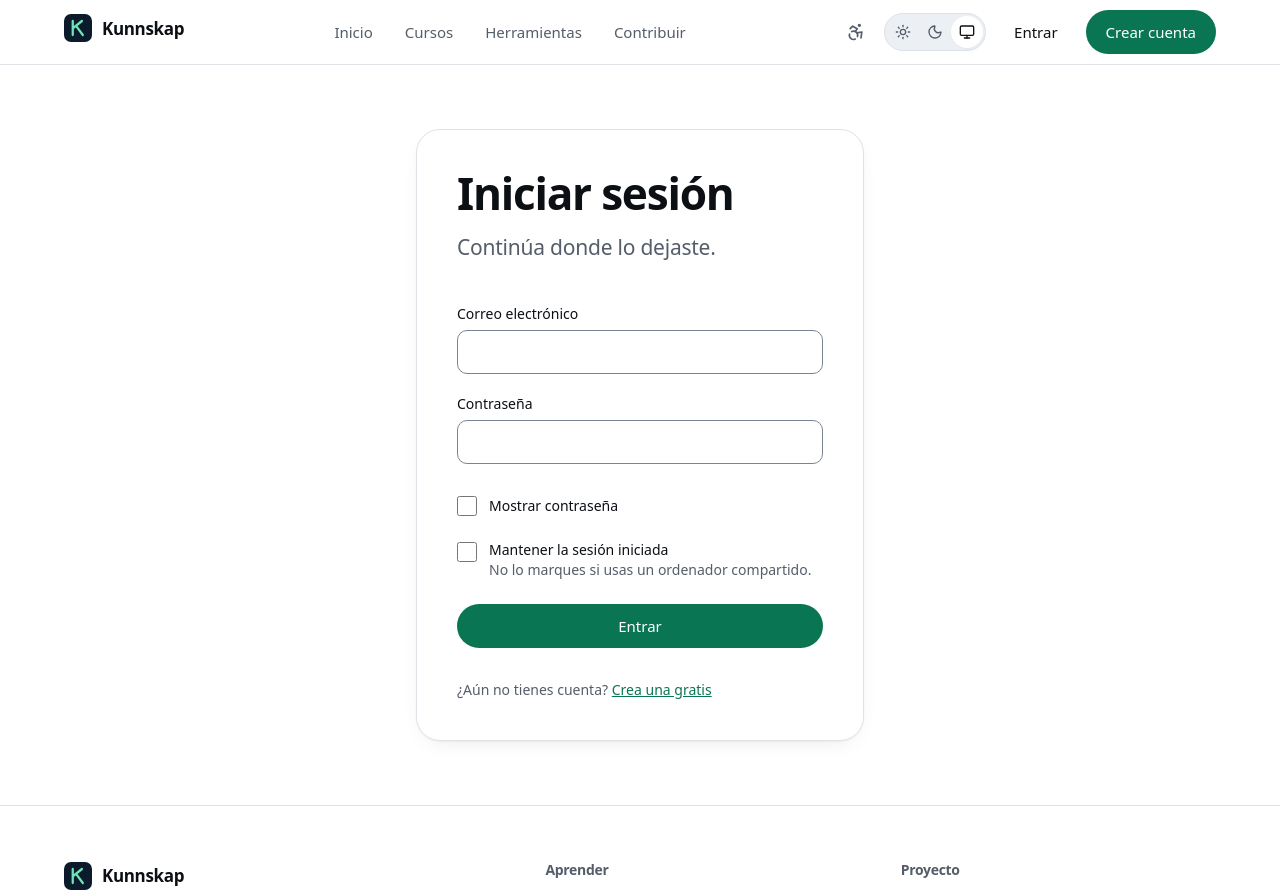
Test: inicio de sesión › muestra el mensaje de la API cuando las credenciales son incorrectas
Type "ana@example.org" into the field labelled "Correo electrónico" at point(640, 352), box [457, 330, 823, 374]
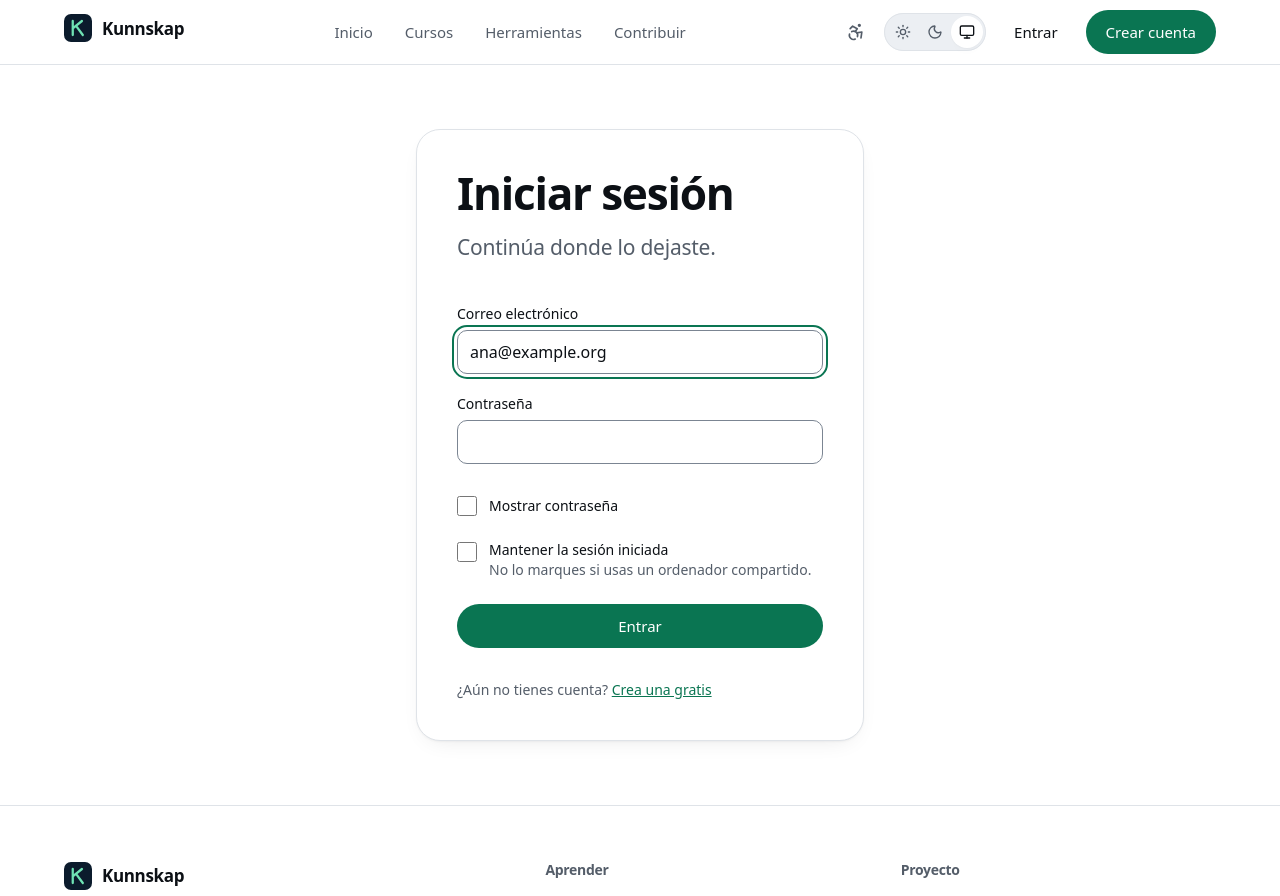
Type "equivocada" into the password field labelled "Contraseña" at point(640, 442), box [457, 420, 823, 464]
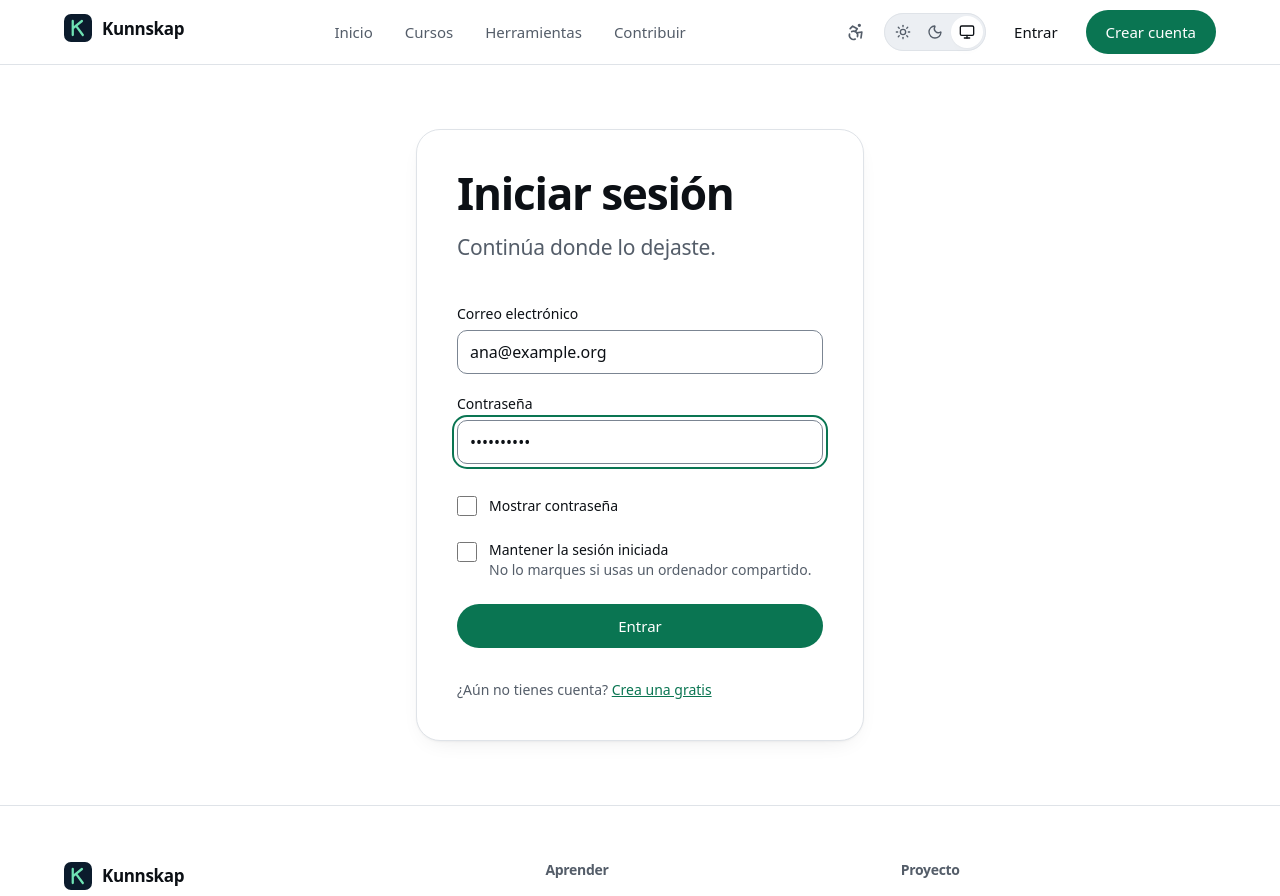
Click the button "Entrar" at point(640, 626), box [457, 604, 823, 648]
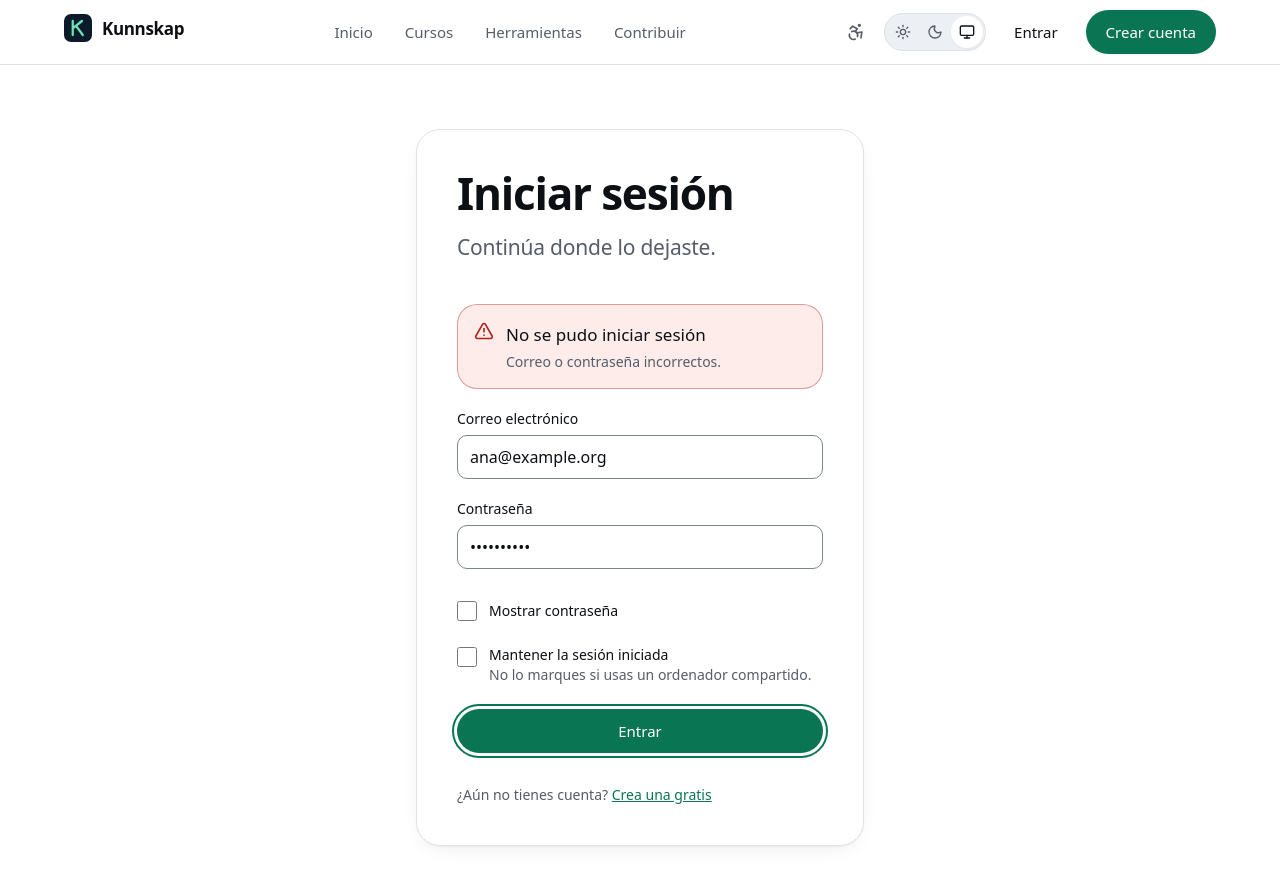
expect the message shows "Correo o contraseña incorrectos.": met, box [506, 352, 721, 371]
